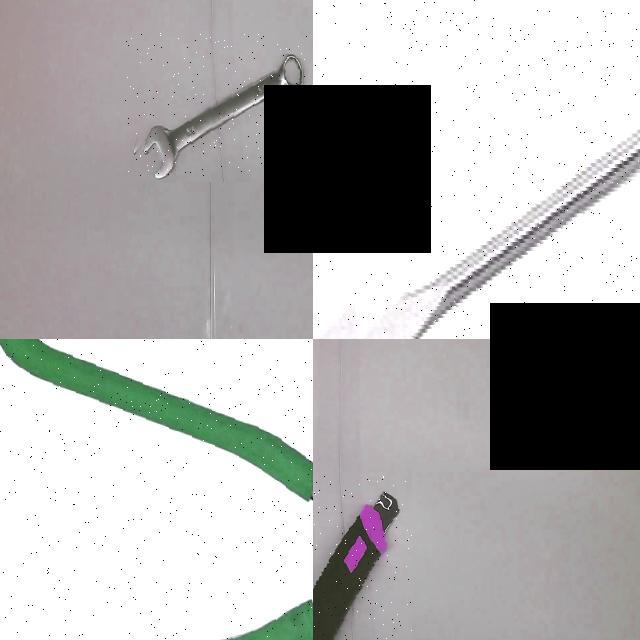estilete: (313, 493, 399, 639)
